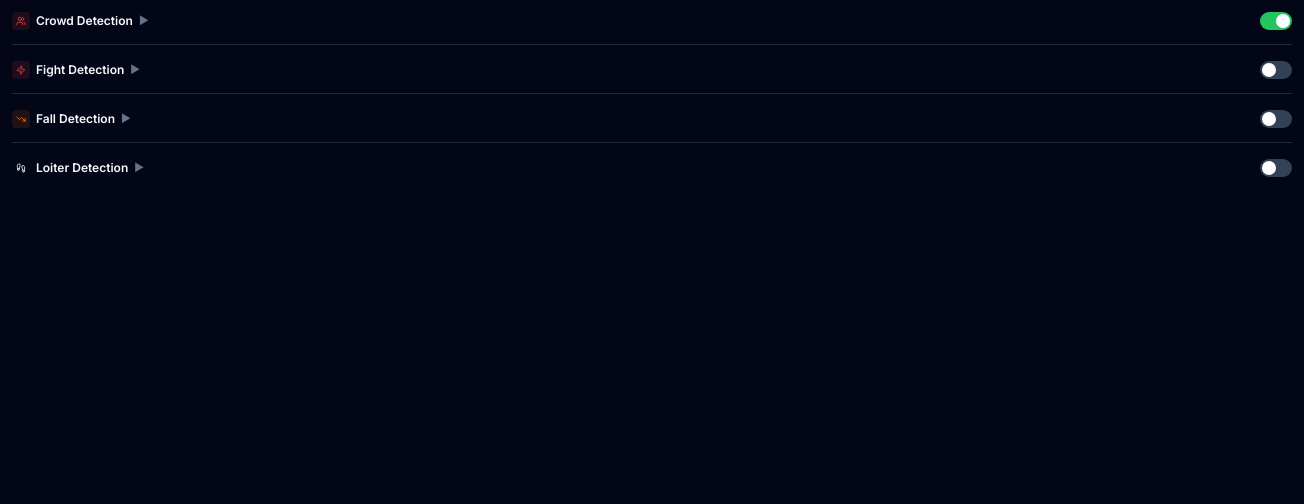
it: RuleForm Zone List Integration › renders "Default Parameters" section header when rule panel is expanded
Step 1. Click the text "Crowd Detection" → x=80, y=21, box [12,12,148,30]
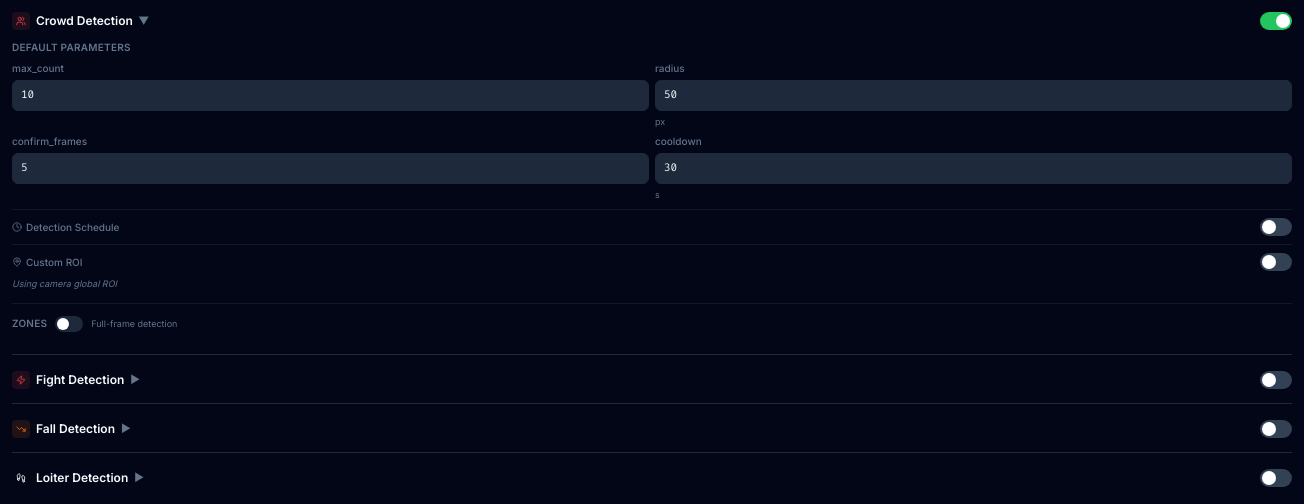
Expected: the text "Default Parameters" is shown, [12,41,131,53]
